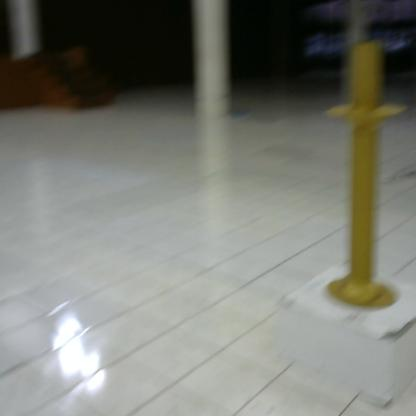pole: (318, 29, 414, 312)
